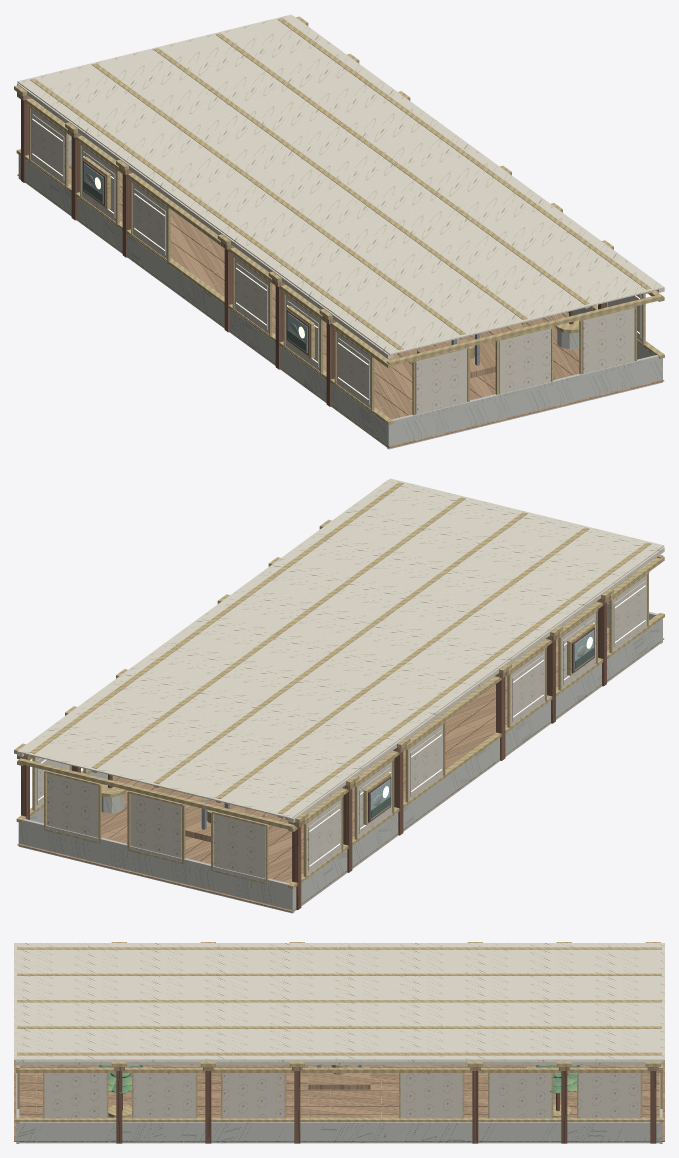
Rendered from gym.gltf.
The picture shows the model from 3 angles, top to bottom: view 1: azimuth 30°, elevation 25°; view 2: azimuth 150°, elevation 25°; view 3: azimuth 270°, elevation 25°; orthographic projection. The views are drawn at different scales.
Parts seen in each view (by area): view 1: ivory, gold, cream, marble, oak, oakdark, sky; view 2: ivory, gold, cream, marble, oak, oakdark, sky; view 3: ivory, gold, cream, marble, oak, oakdark, walnut, plant, leaf.
Part boxes in pixels (box(x1,y1,x2,y2)): ivory: box(17, 14, 664, 358); gold: box(14, 16, 664, 424); cream: box(30, 108, 642, 414); marble: box(18, 137, 662, 449); oak: box(17, 92, 664, 447); oakdark: box(21, 99, 605, 406); sky: box(83, 163, 307, 353); ivory: box(17, 478, 664, 822); gold: box(14, 482, 664, 888); cream: box(35, 574, 647, 878); marble: box(18, 602, 662, 913); oak: box(17, 595, 664, 911); oakdark: box(21, 602, 606, 909); sky: box(370, 630, 594, 819); ivory: box(14, 943, 664, 1064); gold: box(14, 942, 664, 1122); cream: box(43, 1073, 641, 1118); marble: box(16, 1073, 662, 1143); oak: box(14, 1060, 664, 1141); oakdark: box(116, 1071, 656, 1143); walnut: box(19, 1067, 659, 1114); plant: box(99, 1066, 579, 1093); leaf: box(108, 1065, 576, 1091).
Size of the model in its own units: 9.28 by 2.99 by 20.85.
Materials: 17 (17 with a texture image).
